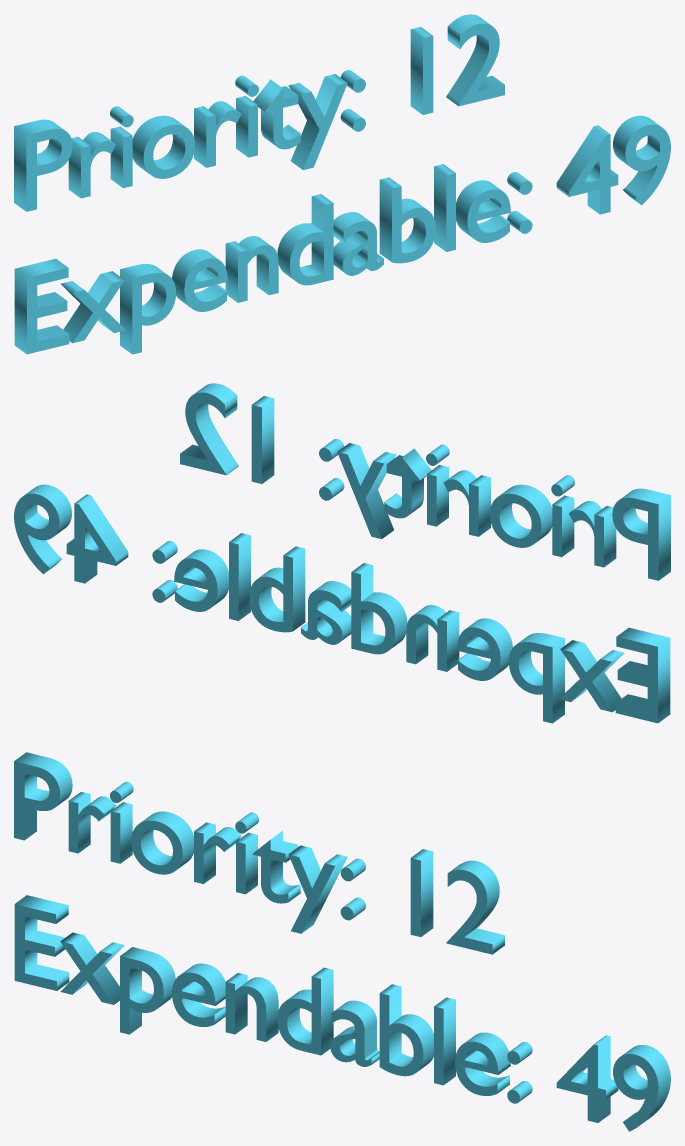
File: console_test_008_result.fbx
3 renders of one model, top to bottom at view 1: azimuth 30°, elevation 25°; view 2: azimuth 150°, elevation 25°; view 3: azimuth 330°, elevation 25°, orthographic.
Parts seen in each view (by area): view 1: Txt_Test_01.037, Txt_Test_01.034; view 2: Txt_Test_01.037, Txt_Test_01.034; view 3: Txt_Test_01.037, Txt_Test_01.034.
Part boxes in pixels (x1,y1,x2,y2): Txt_Test_01.037: [14, 115, 670, 354]; Txt_Test_01.034: [14, 14, 504, 211]; Txt_Test_01.037: [14, 484, 670, 723]; Txt_Test_01.034: [180, 383, 670, 580]; Txt_Test_01.037: [14, 895, 670, 1131]; Txt_Test_01.034: [14, 752, 504, 954].
Bounding box in the file's own units: 0.8096 × 0.2955 × 0.027.
